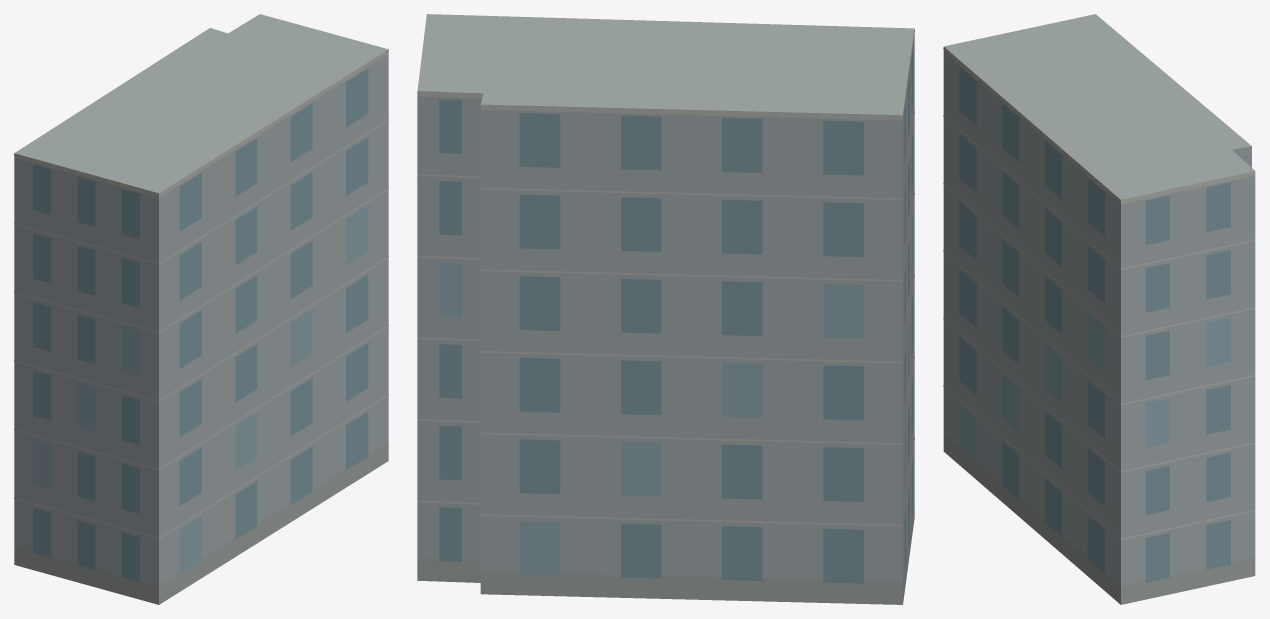
The model's file is survey-upis-32710178.glb.
3 renders of one model, left to right at view 1: azimuth 30°, elevation 25°; view 2: azimuth 150°, elevation 25°; view 3: azimuth 270°, elevation 25°, orthographic. The views are drawn at different scales.
Visible parts, largest first — view 1: survey-upis-32710178.tmp; view 2: survey-upis-32710178.tmp; view 3: survey-upis-32710178.tmp.
Boxes of the visible parts, bbox=[...] form: survey-upis-32710178.tmp: bbox=[14, 14, 388, 604]; survey-upis-32710178.tmp: bbox=[417, 14, 914, 604]; survey-upis-32710178.tmp: bbox=[943, 14, 1255, 604].
Size of the model in its own units: 21.73 by 22.05 by 15.41.
